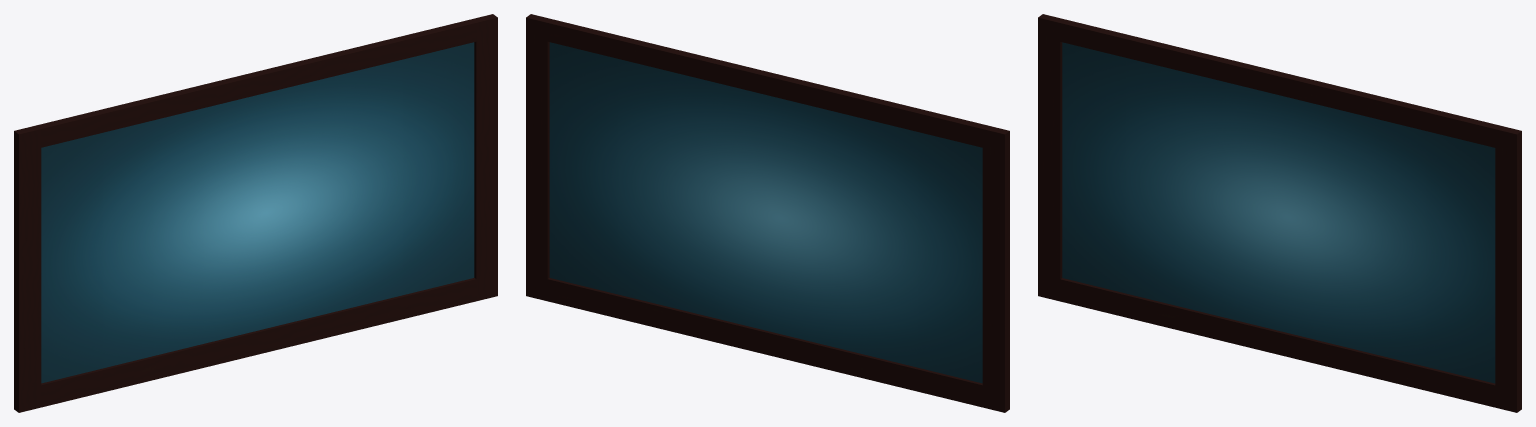
File: Window_Large_D.FBX
The picture shows the model from 3 angles, left to right: view 1: azimuth 30°, elevation 25°; view 2: azimuth 150°, elevation 25°; view 3: azimuth 330°, elevation 25°; orthographic projection.
Visible parts, largest first — view 1: Window_Large; view 2: Window_Large; view 3: Window_Large.
Boxes of the visible parts, left/top/right/bottom form: Window_Large: left=14, top=14, right=497, bottom=412; Window_Large: left=526, top=14, right=1009, bottom=412; Window_Large: left=1038, top=14, right=1521, bottom=412.
Bounding box in the file's own units: 450 × 250 × 8.
